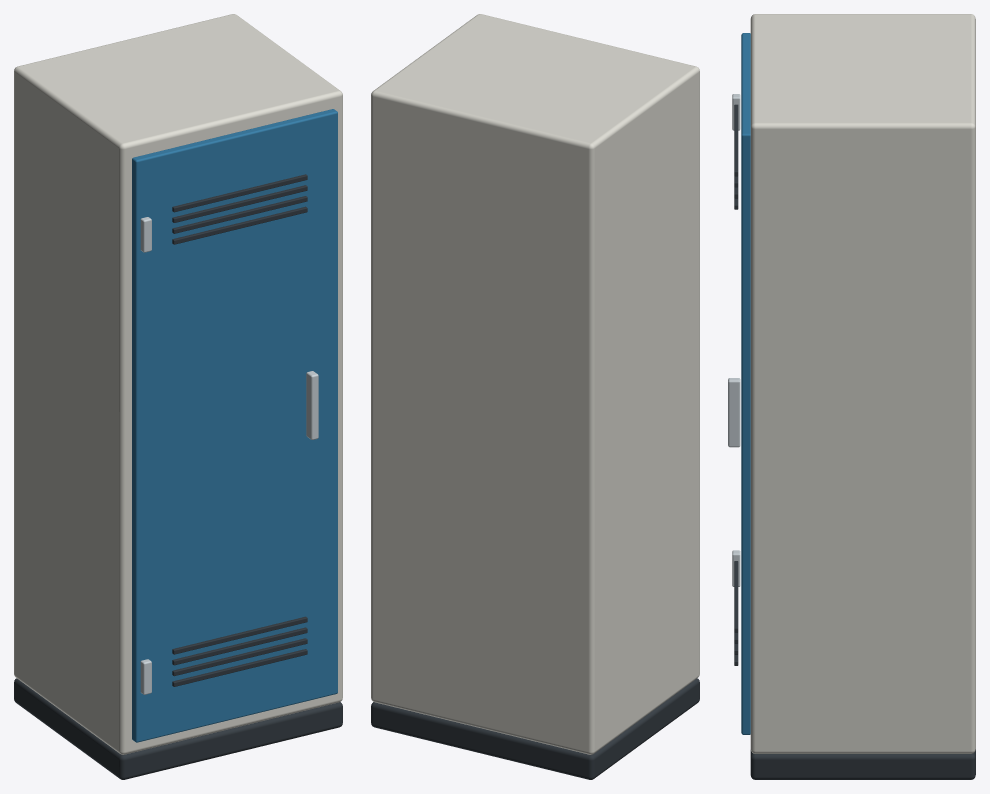
The model's file is club-locker.glb.
3 renders of one model, left to right at view 1: azimuth 30°, elevation 25°; view 2: azimuth 150°, elevation 25°; view 3: azimuth 270°, elevation 25°, orthographic. The views are drawn at different scales.
Parts seen in each view (by area): view 1: club-locker; view 2: club-locker; view 3: club-locker.
Boxes of the visible parts, x1,y1,x2,y2 form: club-locker: (14, 14, 342, 779); club-locker: (371, 14, 699, 779); club-locker: (728, 14, 975, 779).
Bounding box in the file's own units: 0.65 × 1.77 × 0.605.
